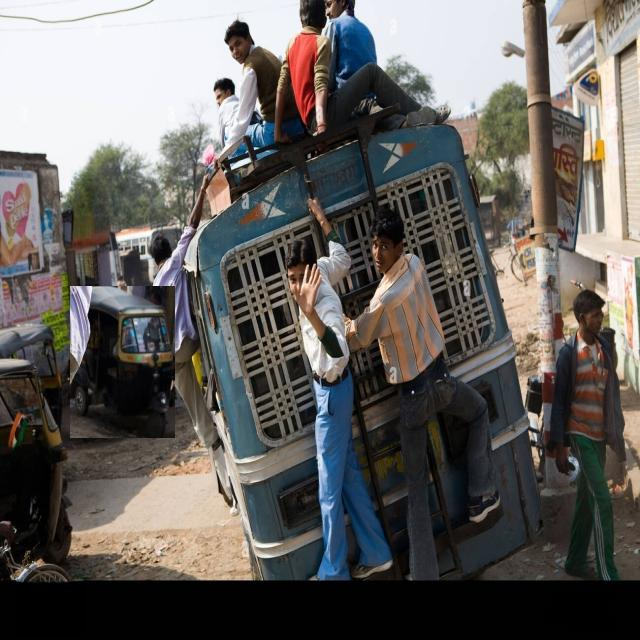autorickshaw: (70, 287, 175, 438)
bus: (185, 112, 541, 579)
